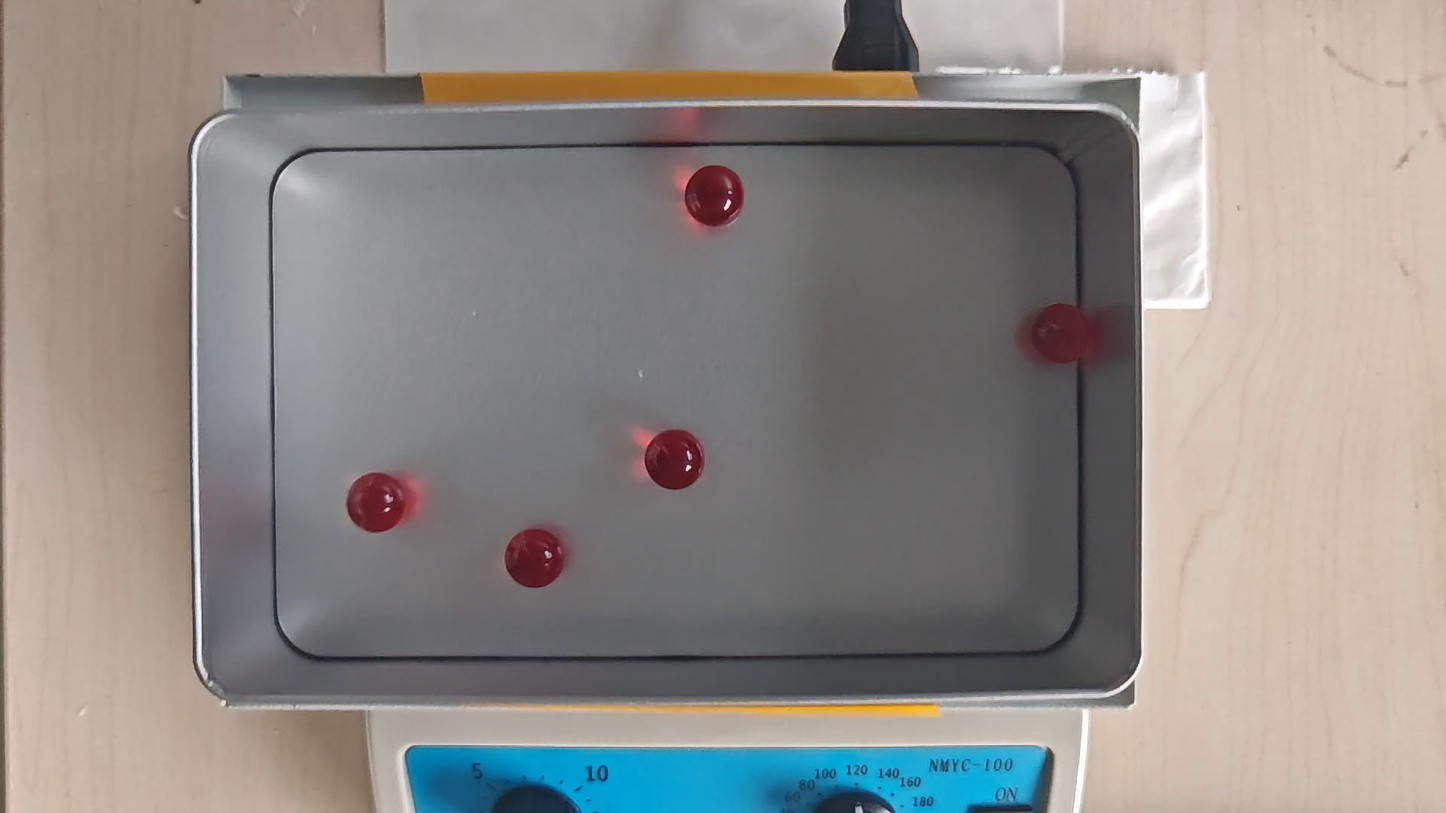ball: (684, 162, 746, 227), (346, 473, 407, 534), (505, 528, 564, 589), (1033, 305, 1092, 366), (646, 430, 703, 492)
container: (269, 144, 1084, 662)
